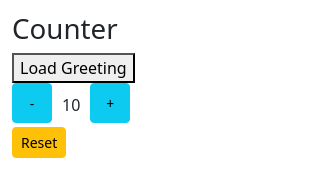
Counter Component › should reset reset counte to 0
The image size is (332, 175).
Click the button "Reset": [39, 143] box [12,127,66,158]
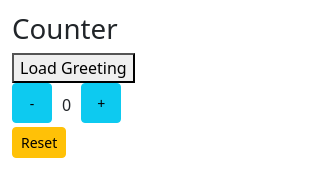
Expected: the text titled "counter" reads "0", [62,94,71,116]
